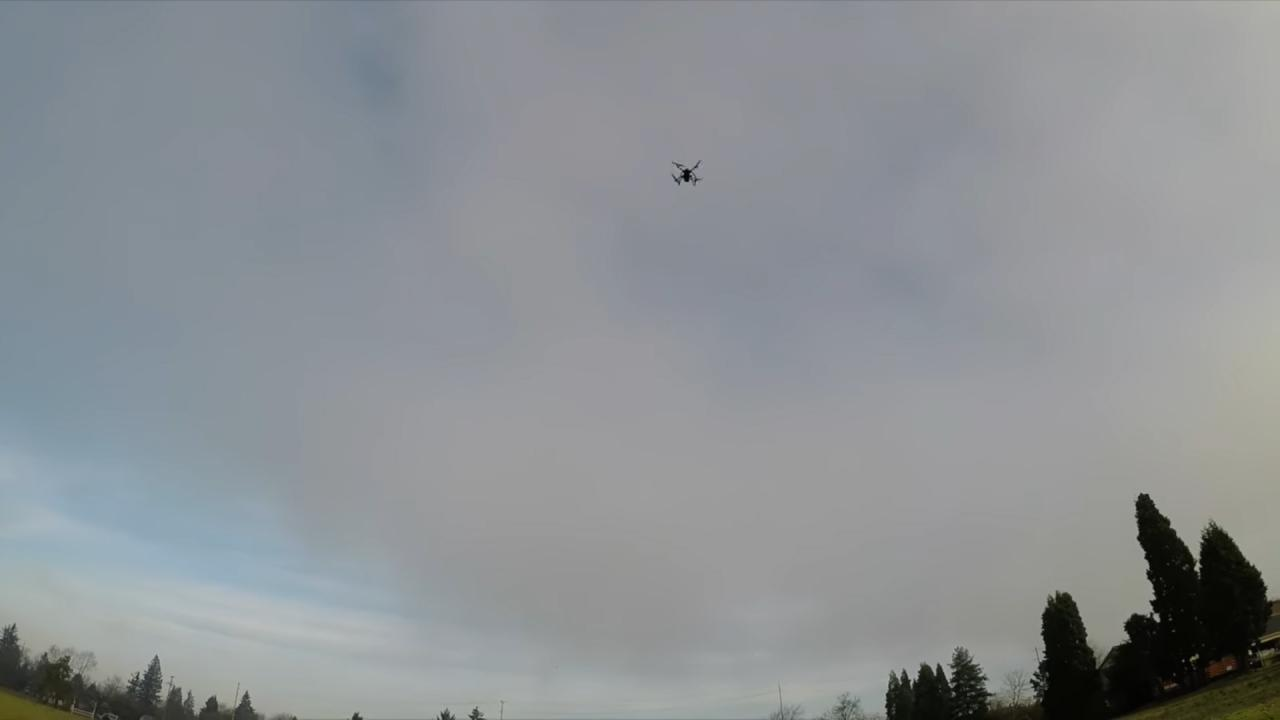Drone: (661, 151, 710, 193)
